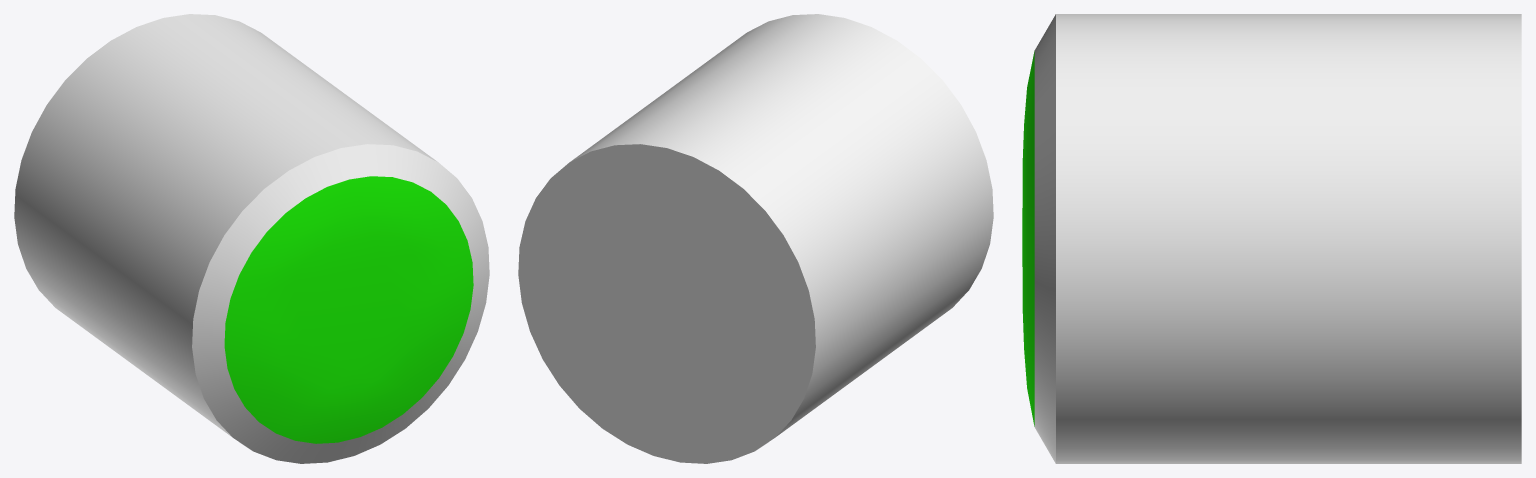
File: CPI_D_FBX_06_Bumper_03_A.fbx
The picture shows the model from 3 angles, left to right: view 1: azimuth 30°, elevation 25°; view 2: azimuth 150°, elevation 25°; view 3: azimuth 270°, elevation 25°; orthographic projection. The views are drawn at different scales.
Visible parts, largest first — view 1: CPI_D_FBX_06_Bumper_03_A; view 2: CPI_D_FBX_06_Bumper_03_A; view 3: CPI_D_FBX_06_Bumper_03_A.
Boxes of the visible parts, x1=… form: CPI_D_FBX_06_Bumper_03_A: x1=14, y1=14, x2=489, y2=463; CPI_D_FBX_06_Bumper_03_A: x1=518, y1=14, x2=993, y2=463; CPI_D_FBX_06_Bumper_03_A: x1=1022, y1=14, x2=1521, y2=463.
Bounding box in the file's own units: 1.89 × 1.89 × 2.1.
